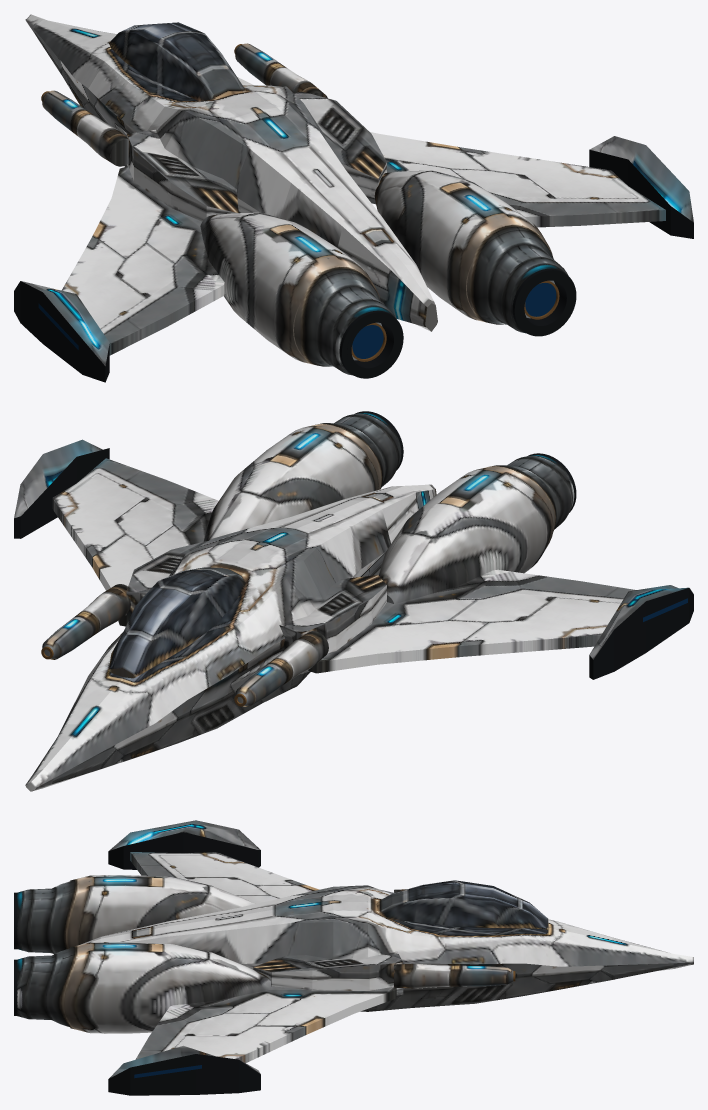
File: interceptor.obj
3 renders of one model, top to bottom at view 1: azimuth 30°, elevation 25°; view 2: azimuth 150°, elevation 25°; view 3: azimuth 270°, elevation 25°, orthographic. The views are drawn at different scales.
Parts seen in each view (by area): view 1: 01_Fuselage_|_continuous_faceted_pressure_hull, 03_Port_|_swept_split-delta_wing, 03_Starboard_|_swept_split-delta_wing, 07_Port_|_sculpted_engine_fairing, 07_Starboard_|_sculpted_engine_fairing, 02_Cockpit_|_smoked_canopy_and_painted_frames, 05_Port_|_vertical_wingtip_endplate, 04_Port_|_raised_root_armor, 08_Port_|_nozzle_jacket, 08_Starboard_|_nozzle_jacket, 05_Starboard_|_vertical_wingtip_endplate, 04_Starboard_|_raised_root_armor (+8 smaller); view 2: 01_Fuselage_|_continuous_faceted_pressure_hull, 03_Port_|_swept_split-delta_wing, 07_Port_|_sculpted_engine_fairing, 03_Starboard_|_swept_split-delta_wing, 07_Starboard_|_sculpted_engine_fairing, 02_Cockpit_|_smoked_canopy_and_painted_frames, 05_Port_|_vertical_wingtip_endplate, 04_Port_|_raised_root_armor, 05_Starboard_|_vertical_wingtip_endplate, 14_Port_|_forward_weapon_housing, 14_Starboard_|_forward_weapon_housing, 08_Port_|_nozzle_jacket (+2 smaller); view 3: 01_Fuselage_|_continuous_faceted_pressure_hull, 07_Starboard_|_sculpted_engine_fairing, 03_Starboard_|_swept_split-delta_wing, 07_Port_|_sculpted_engine_fairing, 02_Cockpit_|_smoked_canopy_and_painted_frames, 05_Starboard_|_vertical_wingtip_endplate, 03_Port_|_swept_split-delta_wing, 04_Starboard_|_raised_root_armor, 05_Port_|_vertical_wingtip_endplate, 08_Starboard_|_nozzle_jacket, 08_Port_|_nozzle_jacket, 14_Starboard_|_forward_weapon_housing.
Part boxes in pixels (left/top/right/bottom): 01_Fuselage_|_continuous_faceted_pressure_hull: left=25, top=14, right=437, bottom=331; 03_Port_|_swept_split-delta_wing: left=61, top=166, right=224, bottom=355; 03_Starboard_|_swept_split-delta_wing: left=370, top=132, right=665, bottom=227; 07_Port_|_sculpted_engine_fairing: left=200, top=212, right=379, bottom=366; 07_Starboard_|_sculpted_engine_fairing: left=374, top=170, right=552, bottom=324; 02_Cockpit_|_smoked_canopy_and_painted_frames: left=109, top=22, right=246, bottom=100; 05_Port_|_vertical_wingtip_endplate: left=14, top=281, right=109, bottom=382; 04_Port_|_raised_root_armor: left=126, top=129, right=238, bottom=221; 08_Port_|_nozzle_jacket: left=294, top=273, right=395, bottom=375; 08_Starboard_|_nozzle_jacket: left=467, top=231, right=568, bottom=333; 05_Starboard_|_vertical_wingtip_endplate: left=589, top=136, right=693, bottom=238; 04_Starboard_|_raised_root_armor: left=294, top=91, right=386, bottom=204; 01_Fuselage_|_continuous_faceted_pressure_hull: left=25, top=484, right=436, bottom=791; 03_Port_|_swept_split-delta_wing: left=308, top=569, right=635, bottom=673; 07_Port_|_sculpted_engine_fairing: left=378, top=465, right=554, bottom=603; 03_Starboard_|_swept_split-delta_wing: left=52, top=458, right=218, bottom=626; 07_Starboard_|_sculpted_engine_fairing: left=203, top=423, right=381, bottom=541; 02_Cockpit_|_smoked_canopy_and_painted_frames: left=109, top=567, right=245, bottom=678; 05_Port_|_vertical_wingtip_endplate: left=589, top=585, right=693, bottom=679; 04_Port_|_raised_root_armor: left=279, top=575, right=386, bottom=674; 05_Starboard_|_vertical_wingtip_endplate: left=14, top=439, right=109, bottom=538; 14_Port_|_forward_weapon_housing: left=235, top=631, right=328, bottom=706; 14_Starboard_|_forward_weapon_housing: left=42, top=584, right=130, bottom=659; 08_Port_|_nozzle_jacket: left=505, top=455, right=574, bottom=531; 01_Fuselage_|_continuous_faceted_pressure_hull: left=80, top=885, right=693, bottom=1011; 07_Starboard_|_sculpted_engine_fairing: left=70, top=942, right=270, bottom=1033; 03_Starboard_|_swept_split-delta_wing: left=135, top=986, right=396, bottom=1063; 07_Port_|_sculpted_engine_fairing: left=70, top=875, right=255, bottom=947; 02_Cockpit_|_smoked_canopy_and_painted_frames: left=376, top=880, right=548, bottom=929; 05_Starboard_|_vertical_wingtip_endplate: left=108, top=1045, right=260, bottom=1095; 03_Port_|_swept_split-delta_wing: left=130, top=852, right=318, bottom=903; 04_Starboard_|_raised_root_armor: left=253, top=951, right=403, bottom=995; 05_Port_|_vertical_wingtip_endplate: left=108, top=820, right=260, bottom=869; 08_Starboard_|_nozzle_jacket: left=17, top=948, right=70, bottom=1026; 08_Port_|_nozzle_jacket: left=17, top=881, right=70, bottom=954; 14_Starboard_|_forward_weapon_housing: left=394, top=963, right=513, bottom=988.
Size of the model in its own units: 11.04 by 2.39 by 13.45.
6 materials, 2 textured.
